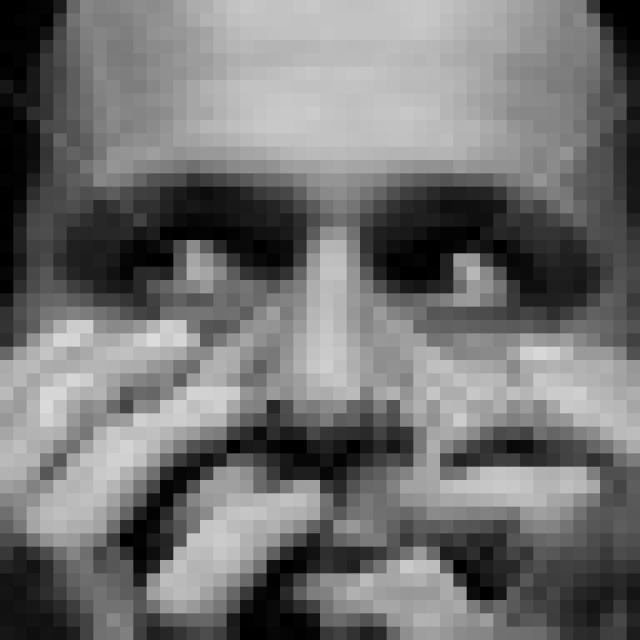fear: (70, 157, 609, 605)
